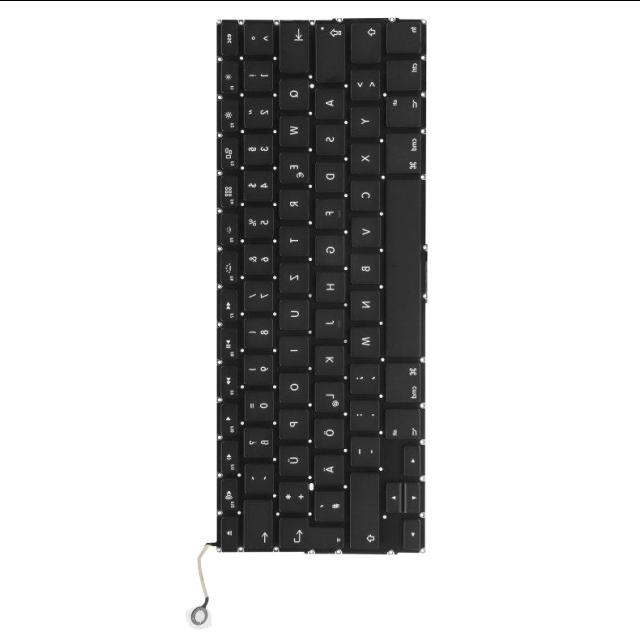0: (242, 388, 272, 420)
1: (242, 57, 272, 89)
2: (242, 94, 272, 127)
3: (242, 130, 272, 163)
4: (241, 168, 271, 200)
5: (242, 204, 273, 237)
6: (242, 240, 272, 273)
7: (242, 278, 272, 310)
8: (242, 314, 272, 346)
9: (241, 351, 272, 383)
a: (312, 85, 342, 117)
accent: (242, 459, 272, 491)
ae: (311, 451, 341, 483)
alt-left: (383, 92, 422, 126)
altgr-right: (384, 405, 420, 438)
b: (347, 250, 378, 282)
c: (347, 176, 379, 209)
caret: (241, 19, 272, 52)
comma: (346, 360, 377, 392)
d: (312, 158, 342, 190)
del: (241, 496, 272, 548)
e: (276, 149, 307, 181)
enter: (276, 514, 342, 549)
f: (312, 195, 341, 227)
g: (312, 232, 342, 263)
h: (312, 267, 343, 299)
hash: (311, 487, 342, 519)
i: (277, 332, 306, 364)
j: (312, 305, 341, 336)
k: (312, 342, 341, 373)
keyboard: (212, 11, 426, 559)
l: (312, 378, 342, 410)
less: (348, 65, 378, 98)
m: (346, 323, 378, 355)
minus: (348, 433, 378, 464)
n: (347, 286, 378, 318)
o: (276, 369, 306, 401)
oe: (312, 415, 341, 447)
p: (276, 406, 306, 438)
plus: (276, 479, 307, 510)
point: (347, 397, 377, 429)
q: (276, 74, 307, 108)
r: (276, 186, 306, 218)
s: (313, 121, 343, 153)
shift-left: (348, 17, 380, 61)
shift-lock: (313, 19, 344, 80)
shift-right: (346, 469, 378, 547)
space: (383, 176, 421, 355)
ss: (241, 424, 272, 456)
strg-left: (383, 54, 421, 89)
t: (276, 223, 306, 254)
tab: (276, 18, 307, 70)
u: (276, 295, 306, 327)
ue: (275, 442, 307, 474)
v: (348, 214, 379, 246)
w: (276, 112, 307, 144)
x: (347, 140, 378, 172)
y: (348, 103, 378, 135)
z: (276, 259, 306, 291)
